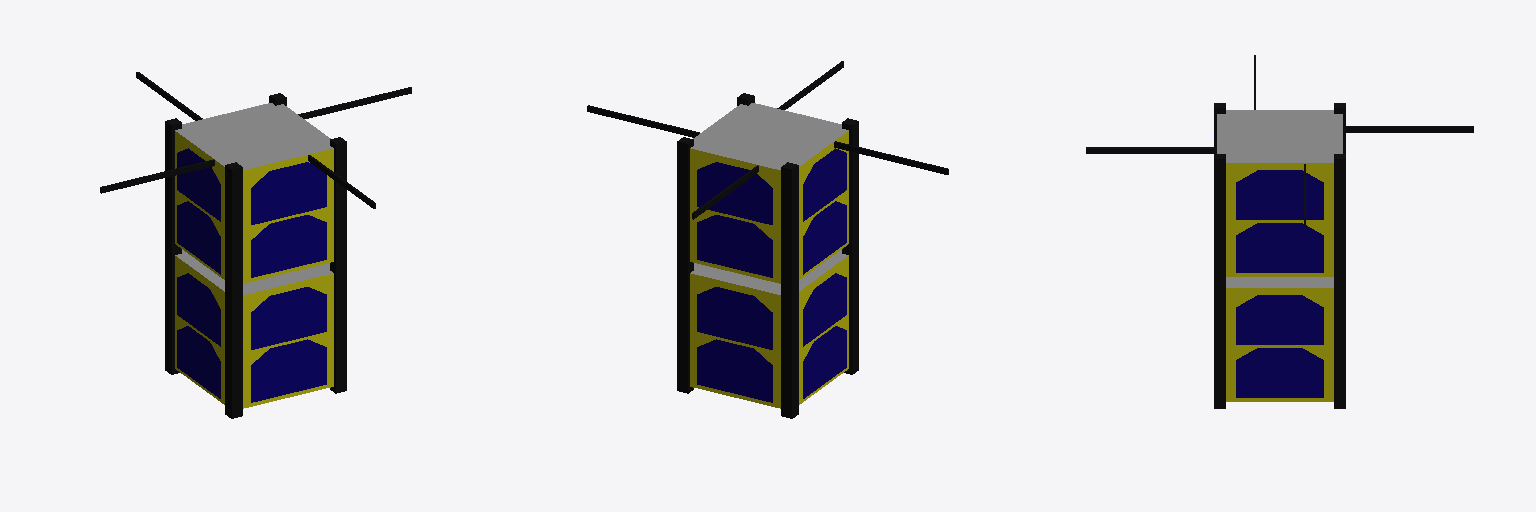
The picture shows the model from 3 angles: view 1: azimuth 30°, elevation 25°; view 2: azimuth 150°, elevation 25°; view 3: azimuth 270°, elevation 25°; orthographic projection.
Parts seen in each view (by area): view 1: CubeSatWAnten.001_Cube.014, CubeSatWAnten_Cube.014, SolarPanel.010_Plane.010, SolarPanel.011_Plane.011, SolarPanel.006_Plane.010, SolarPanel.005_Plane.011, Leg.003_Cube.011, Leg.005_Cube.011, SolarPanel.009_Plane.009, SolarPanel.008_Plane.008, SolarPanel.007_Plane.009, SolarPanel.016_Plane.008 (+7 smaller); view 2: CubeSatWAnten.001_Cube.014, CubeSatWAnten_Cube.014, SolarPanel.013_Plane.013, SolarPanel.003_Plane.013, SolarPanel.012_Plane.012, SolarPanel.004_Plane.012, Leg.008_Cube.010, Leg.004_Cube.010, SolarPanel.009_Plane.009, SolarPanel.007_Plane.009, SolarPanel.008_Plane.008, SolarPanel.016_Plane.008 (+6 smaller); view 3: CubeSatWAnten.001_Cube.014, CubeSatWAnten_Cube.014, SolarPanel.014_Plane.014, SolarPanel.002_Plane.014, SolarPanel.015_Plane.015, SolarPanel.001_Plane.015, Leg.001_Cube.013, Leg.002_Cube.012, Leg.007_Cube.013, Leg.006_Cube.012, Antenna.003_Cube.017, Antenna.005_Cube.015.
Boxes of the visible parts, x1=… form: CubeSatWAnten.001_Cube.014: x1=175, y1=103, x2=333, y2=283; CubeSatWAnten_Cube.014: x1=175, y1=249, x2=333, y2=408; SolarPanel.010_Plane.010: x1=251, y1=339, x2=326, y2=402; SolarPanel.011_Plane.011: x1=251, y1=287, x2=326, y2=349; SolarPanel.006_Plane.010: x1=251, y1=215, x2=326, y2=277; SolarPanel.005_Plane.011: x1=251, y1=162, x2=326, y2=224; Leg.003_Cube.011: x1=225, y1=162, x2=242, y2=293; Leg.005_Cube.011: x1=225, y1=290, x2=242, y2=418; SolarPanel.009_Plane.009: x1=177, y1=326, x2=220, y2=398; SolarPanel.008_Plane.008: x1=177, y1=273, x2=220, y2=346; SolarPanel.007_Plane.009: x1=177, y1=201, x2=220, y2=274; SolarPanel.016_Plane.008: x1=177, y1=148, x2=220, y2=221; CubeSatWAnten.001_Cube.014: x1=690, y1=103, x2=848, y2=283; CubeSatWAnten_Cube.014: x1=690, y1=249, x2=848, y2=408; SolarPanel.013_Plane.013: x1=697, y1=339, x2=772, y2=402; SolarPanel.003_Plane.013: x1=697, y1=215, x2=772, y2=277; SolarPanel.012_Plane.012: x1=697, y1=287, x2=772, y2=349; SolarPanel.004_Plane.012: x1=697, y1=162, x2=772, y2=224; Leg.008_Cube.010: x1=781, y1=162, x2=798, y2=293; Leg.004_Cube.010: x1=781, y1=290, x2=798, y2=418; SolarPanel.009_Plane.009: x1=803, y1=326, x2=846, y2=398; SolarPanel.007_Plane.009: x1=803, y1=201, x2=846, y2=274; SolarPanel.008_Plane.008: x1=803, y1=273, x2=846, y2=346; SolarPanel.016_Plane.008: x1=803, y1=148, x2=846, y2=221; CubeSatWAnten.001_Cube.014: x1=1217, y1=110, x2=1342, y2=276; CubeSatWAnten_Cube.014: x1=1226, y1=277, x2=1333, y2=401; SolarPanel.014_Plane.014: x1=1236, y1=348, x2=1323, y2=397; SolarPanel.002_Plane.014: x1=1236, y1=223, x2=1323, y2=272; SolarPanel.015_Plane.015: x1=1236, y1=295, x2=1323, y2=344; SolarPanel.001_Plane.015: x1=1236, y1=170, x2=1323, y2=219; Leg.001_Cube.013: x1=1214, y1=154, x2=1225, y2=283; Leg.002_Cube.012: x1=1334, y1=154, x2=1345, y2=283; Leg.007_Cube.013: x1=1214, y1=284, x2=1225, y2=408; Leg.006_Cube.012: x1=1334, y1=284, x2=1345, y2=408; Antenna.003_Cube.017: x1=1086, y1=147, x2=1216, y2=153; Antenna.005_Cube.015: x1=1343, y1=126, x2=1473, y2=132.
Size of the model in its own units: 3.1 by 2.2 by 3.1.